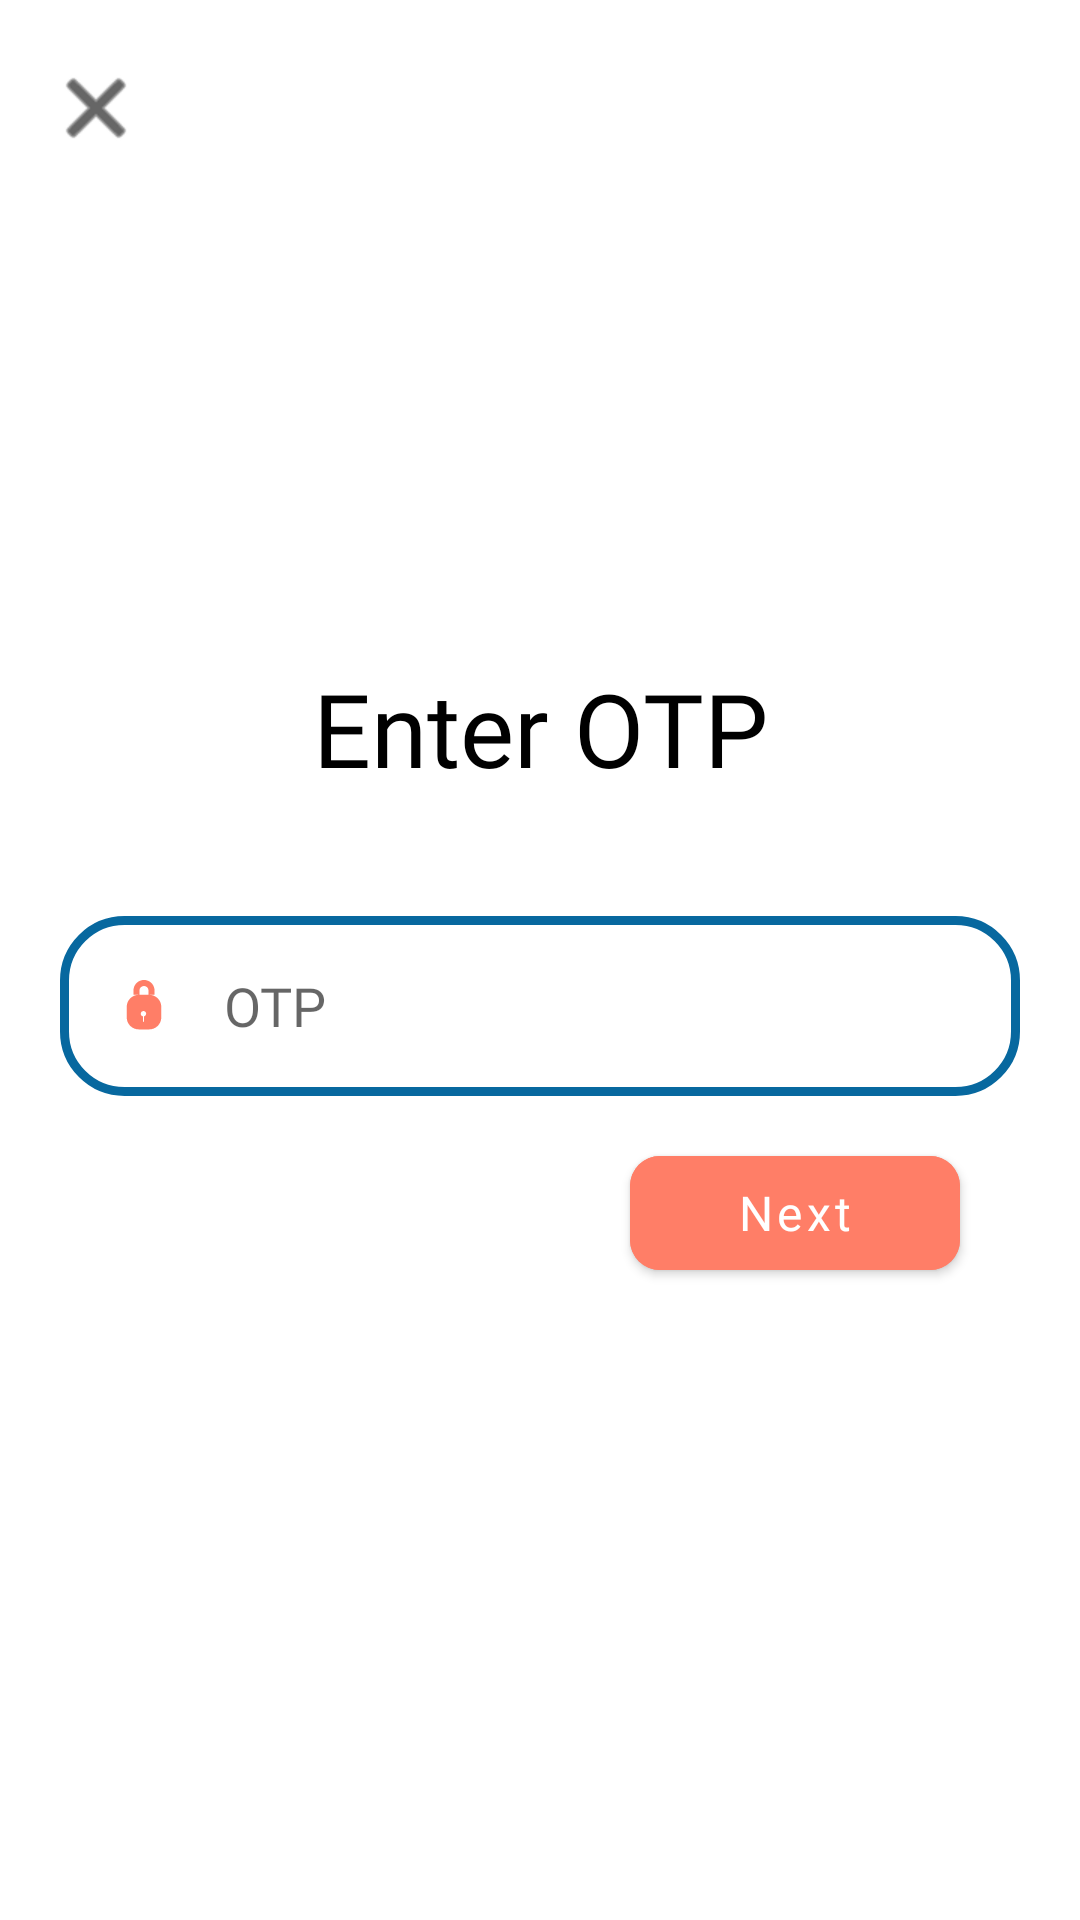

Where to tap for icons on this 1080px×1920px app screen, as (x=x, y=y):
close clear cancel: (x=96, y=108)
secondary password: (x=144, y=1005)
